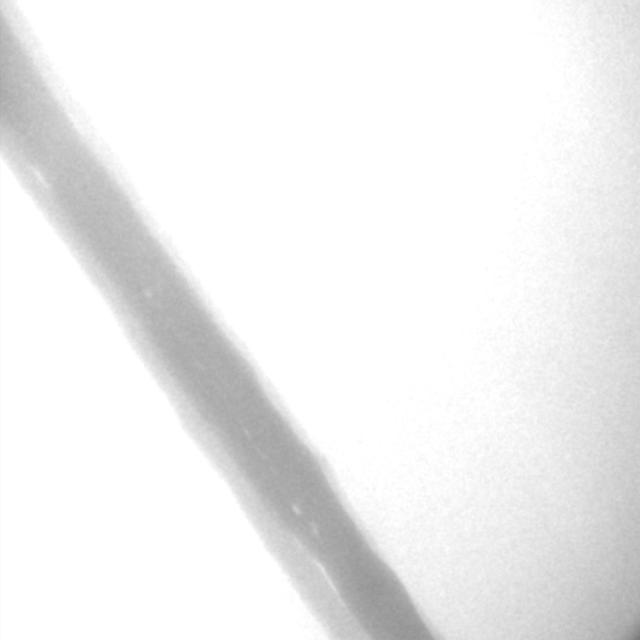air hole: (291, 504, 301, 514)
